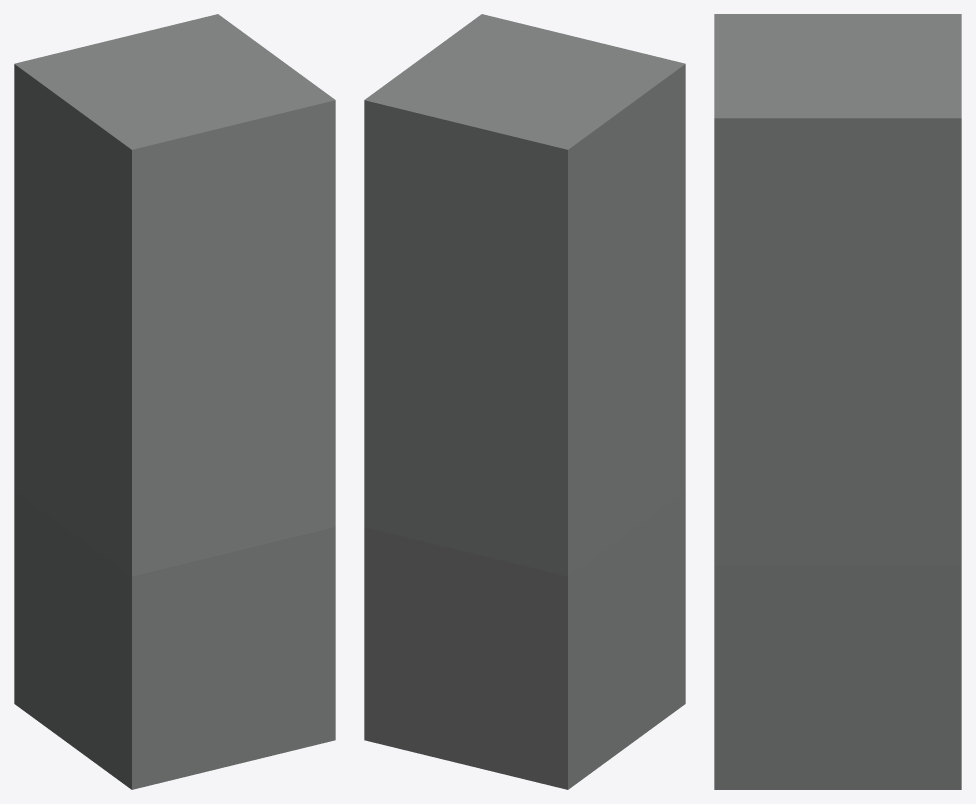
The model's file is KatangaMg1_Trigger.glb.
3 renders of one model, left to right at view 1: azimuth 30°, elevation 25°; view 2: azimuth 150°, elevation 25°; view 3: azimuth 270°, elevation 25°, orthographic. The views are drawn at different scales.
Parts seen in each view (by area): view 1: Trigger_1; view 2: Trigger_1; view 3: Trigger_1.
Part boxes in pixels (<box>): Trigger_1: <box>14,14,335,789</box>; Trigger_1: <box>364,14,685,789</box>; Trigger_1: <box>714,14,961,789</box>.
Bounding box in the file's own units: 0.00687 × 0.0206 × 0.00687.
Materials: 1 (1 with a texture image).
